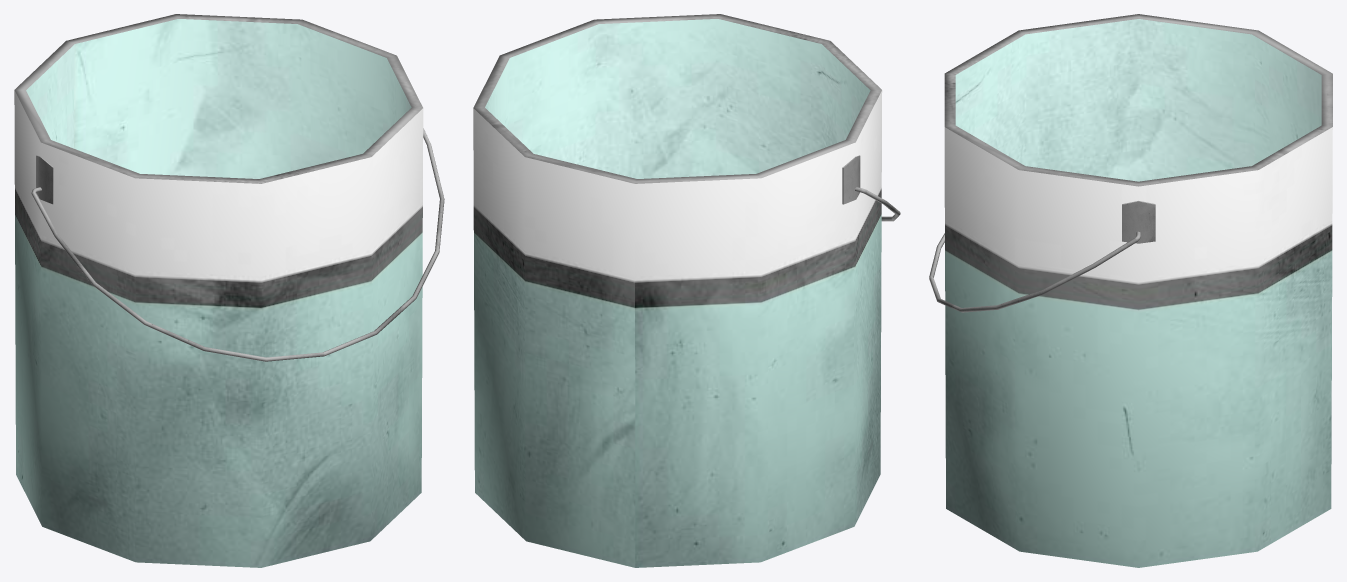
File: paint_buket_01.fbx
The picture shows the model from 3 angles, left to right: view 1: azimuth 30°, elevation 25°; view 2: azimuth 150°, elevation 25°; view 3: azimuth 270°, elevation 25°; orthographic projection.
Visible parts, largest first — view 1: Torus001; view 2: Torus001; view 3: Torus001.
Boxes of the visible parts, x1,y1,x2,y2 form: Torus001: (14, 14, 444, 567); Torus001: (473, 14, 900, 567); Torus001: (929, 14, 1332, 567).
Size of the model in its own units: 41.65 by 40.32 by 38.61.
